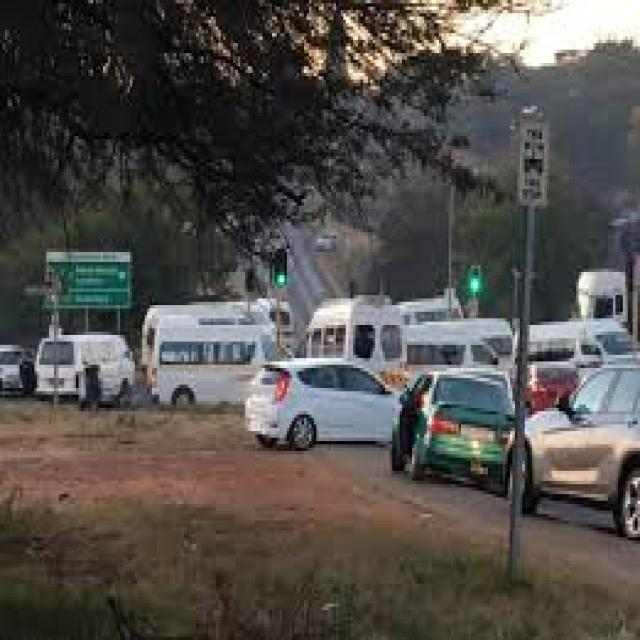MiniBus taxi: (140, 332, 292, 418), (34, 328, 138, 414)
Passenger Car: (502, 351, 640, 543), (245, 365, 405, 464), (392, 368, 520, 484)
